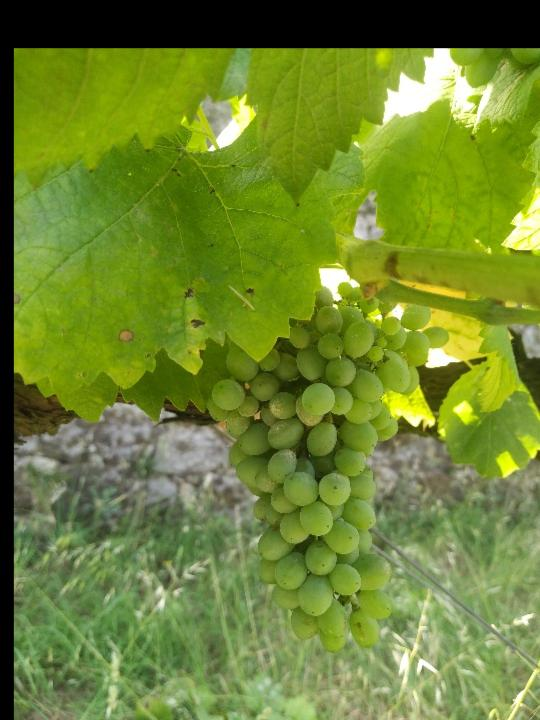grape: (207, 280, 456, 659)
